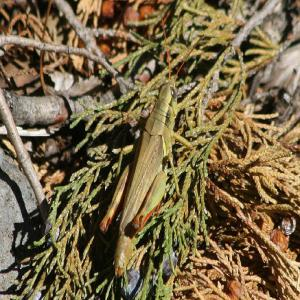locust: (104, 40, 195, 268)
